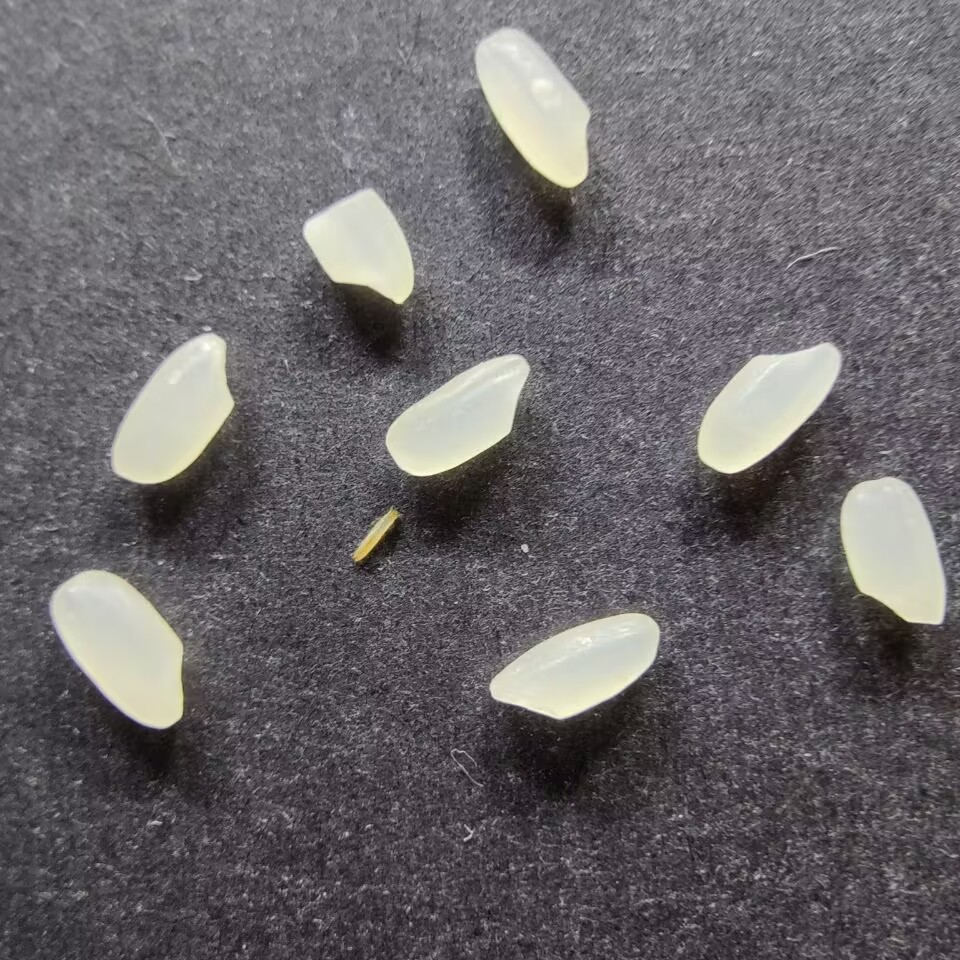broken: (300, 186, 415, 305)
others: (345, 502, 402, 566)
rice: (47, 568, 186, 733), (106, 332, 237, 485), (486, 611, 662, 723), (694, 342, 841, 476), (473, 27, 591, 191), (386, 353, 532, 479), (837, 475, 949, 626)
